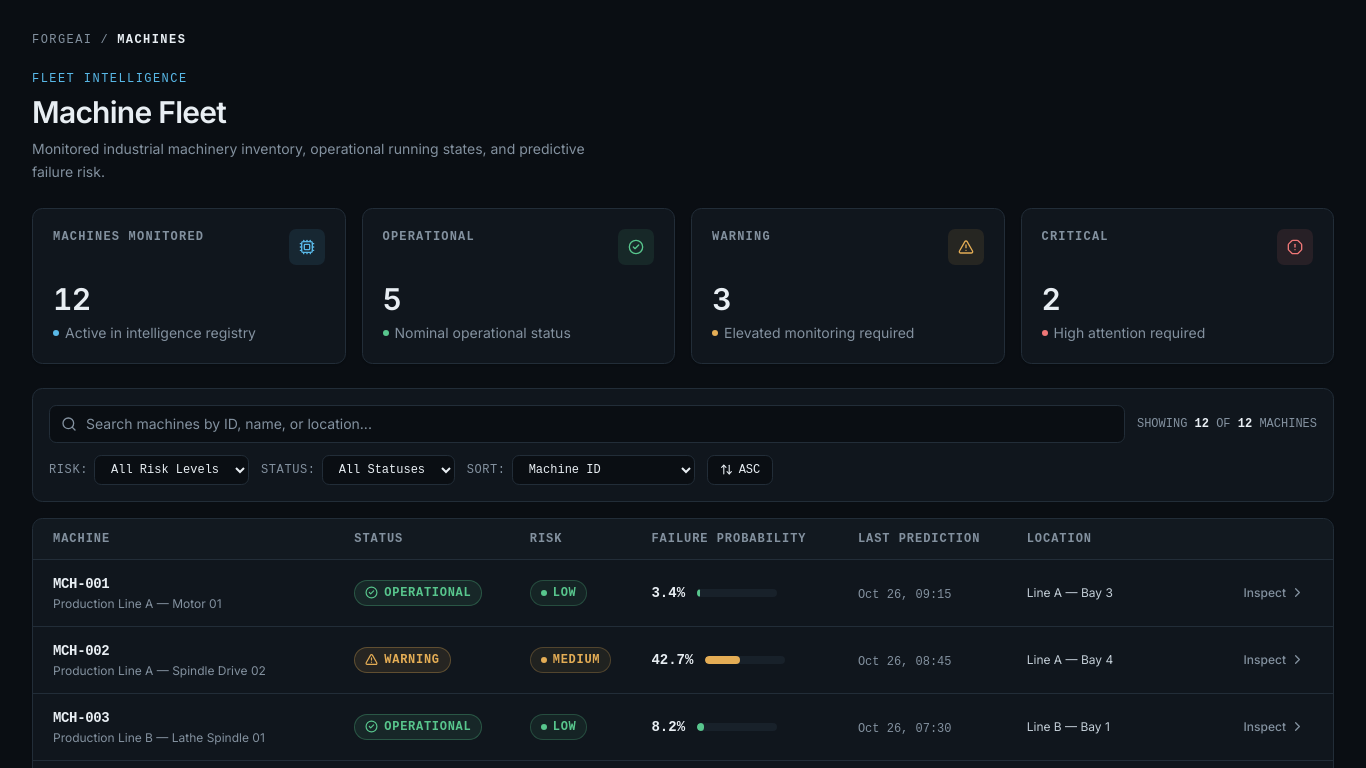
Machine Fleet Experience (Part 8) › filters machines by predicted failure risk level
This screenshot has width=1366, height=768.
Note: Filter to HIGH risk
Select "High Risk" in the dropdown named "Filter machines by risk level" at point(172, 470), box [94,454,249,484]
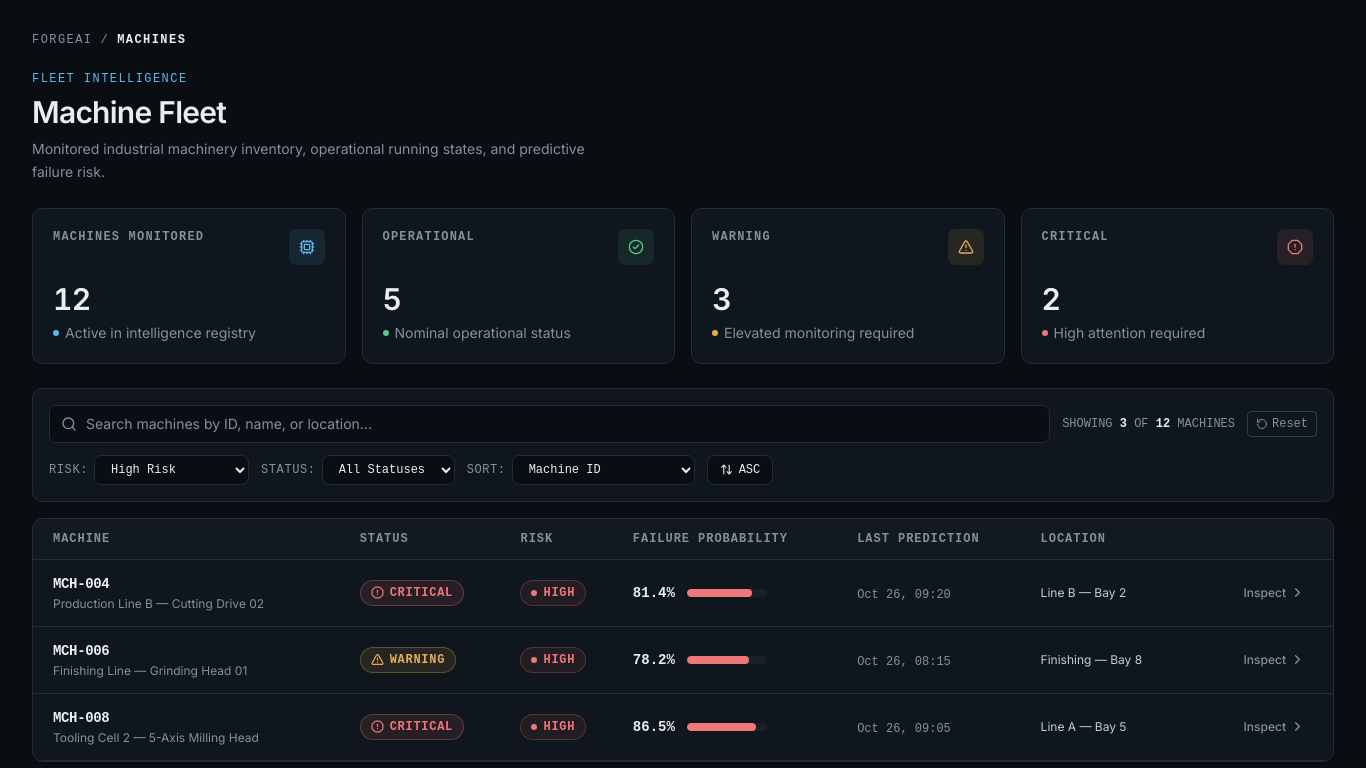
Check: the text "MCH-004" is shown, box [53,576,109,592]
Check: the text "MCH-001" is gone
Note: Filter to LOW risk
Select "Low Risk" in the dropdown named "Filter machines by risk level" at point(172, 470), box [94,454,249,484]
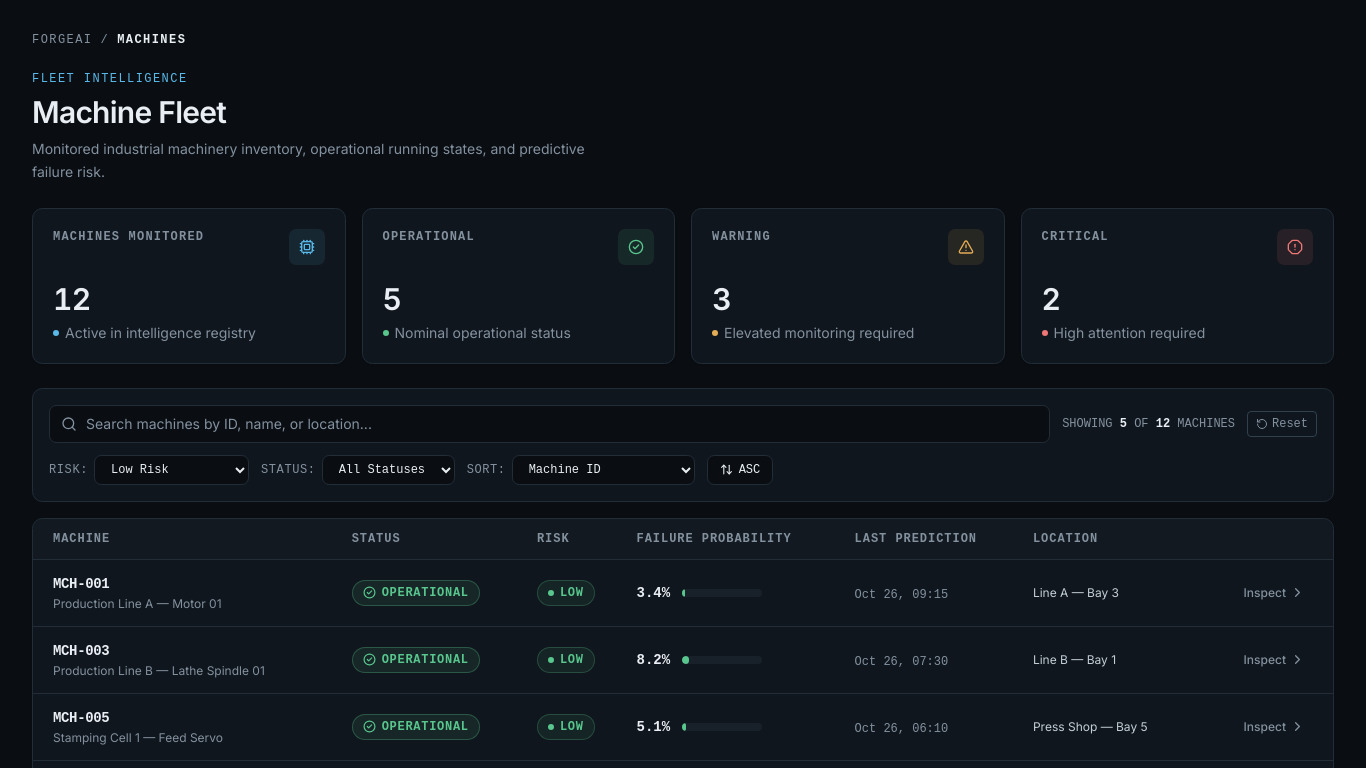
Check: the text "MCH-001" is shown, box [53,576,109,592]
Check: the text "MCH-003" is shown, box [53,642,109,658]
Check: the text "MCH-004" is gone
